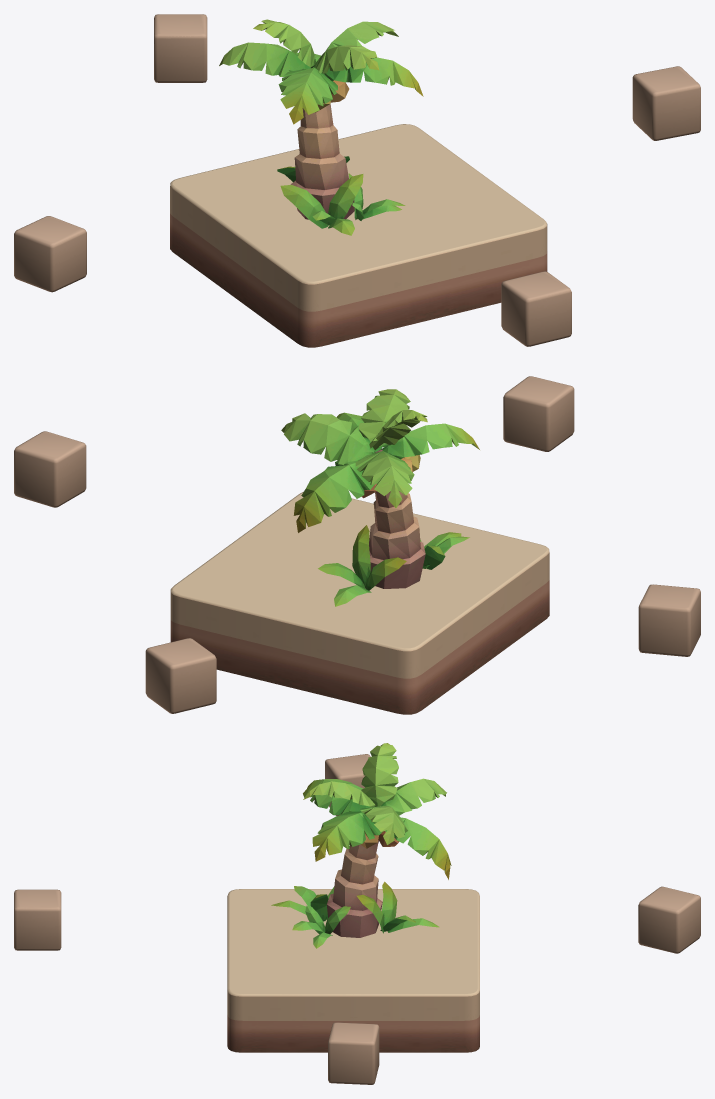
The model's file is Props.fbx.
3 renders of one model, top to bottom at view 1: azimuth 30°, elevation 25°; view 2: azimuth 150°, elevation 25°; view 3: azimuth 270°, elevation 25°, orthographic. The views are drawn at different scales.
Visible parts, largest first — view 1: Box02, yezishu02, Box1-6 (2), Box1-6 (4), Box1-6 (1), Box1-6 (3); view 2: Box02, yezishu02, Box1-6 (1), Box1-6 (4), Box1-6 (3), Box1-6 (2); view 3: Box02, yezishu02, Box1-6 (3), Box1-6 (1), Box1-6 (4), Box1-6 (2).
Boxes of the visible parts, x1,y1,x2,y2 form: Box02: (170,124,547,347); yezishu02: (219,19,423,235); Box1-6 (2): (14,216,86,292); Box1-6 (4): (501,271,571,346); Box1-6 (1): (632,66,700,140); Box1-6 (3): (154,14,207,82); Box02: (170,492,549,714); yezishu02: (281,389,479,606); Box1-6 (1): (14,431,86,507); Box1-6 (4): (503,376,574,451); Box1-6 (3): (145,638,216,713); Box1-6 (2): (638,584,700,656); Box02: (227,889,479,1052); yezishu02: (271,743,451,948); Box1-6 (3): (638,886,700,953); Box1-6 (1): (328,1022,379,1084); Box1-6 (4): (14,889,61,950); Box1-6 (2): (325,754,370,816).
Bounding box in the file's own units: 28.24 × 10.12 × 28.26.
Materials: 3 (3 with a texture image).
